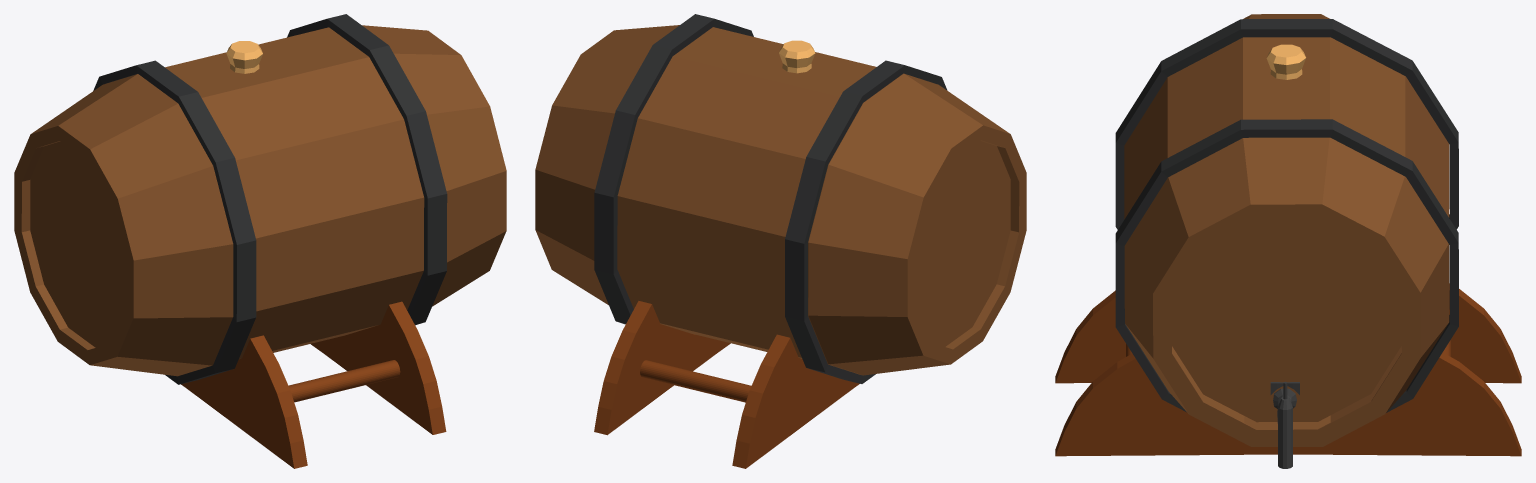
File: barrel.fbx
3 views of the same model, side by side, from view 1: azimuth 30°, elevation 25°; view 2: azimuth 150°, elevation 25°; view 3: azimuth 270°, elevation 25° (orthographic). The views are drawn at different scales.
Parts seen in each view (by area): view 1: Barrel, Ring, barrel rack, Barrel rack connection, Cork; view 2: Barrel, Ring, barrel rack, Barrel rack connection, Cork; view 3: Barrel, Lid, barrel rack, Ring, Spout, Cork.
Boxes of the visible parts, <box> form: Barrel: <box>14,25,506,376</box>; Ring: <box>93,14,447,384</box>; barrel rack: <box>181,301,446,468</box>; Barrel rack connection: <box>288,360,400,402</box>; Cork: <box>226,41,262,73</box>; Barrel: <box>535,25,1026,375</box>; Ring: <box>594,14,947,383</box>; barrel rack: <box>594,301,859,468</box>; Barrel rack connection: <box>640,360,751,402</box>; Cork: <box>779,40,815,73</box>; Barrel: <box>1124,14,1449,446</box>; Lid: <box>1172,221,1401,422</box>; barrel rack: <box>1055,283,1521,456</box>; Ring: <box>1115,19,1458,412</box>; Spout: <box>1273,388,1296,468</box>; Cork: <box>1266,44,1305,79</box>.
Size of the model in its own units: 127 by 98.96 by 117.
